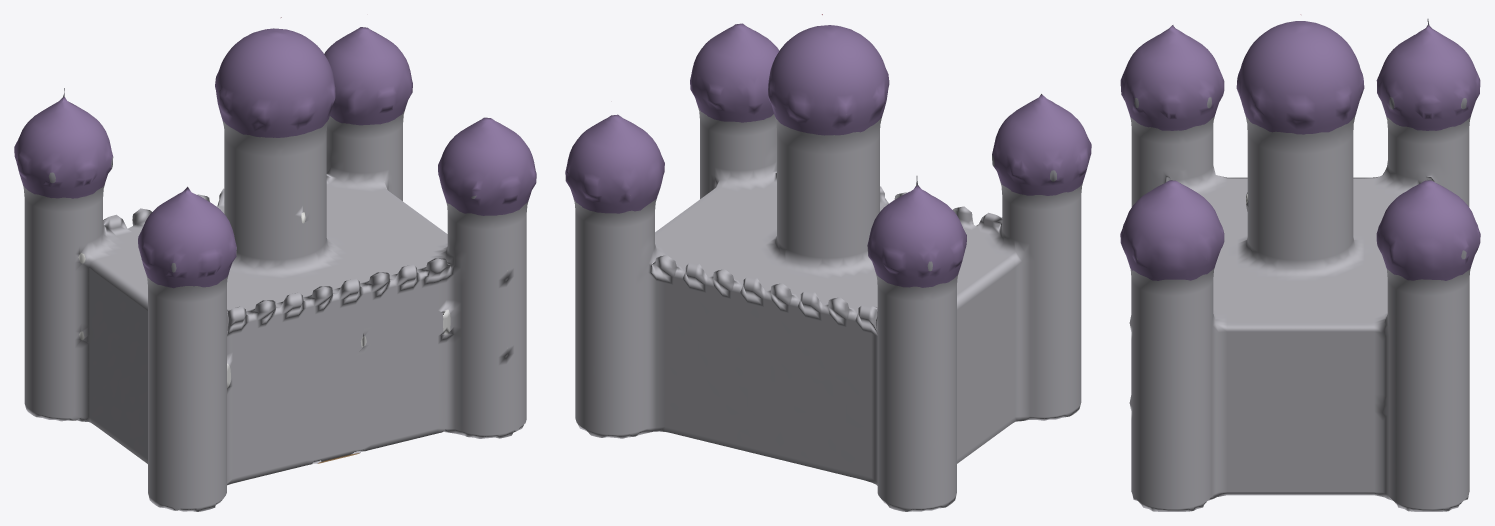
File: castle.glb
3 views of the same model, side by side, from view 1: azimuth 30°, elevation 25°; view 2: azimuth 150°, elevation 25°; view 3: azimuth 270°, elevation 25° (orthographic). The views are drawn at different scales.
Parts seen in each view (by area): view 1: castle; view 2: castle; view 3: castle.
Boxes of the visible parts, bbox=[...] form: castle: bbox=[14, 17, 536, 511]; castle: bbox=[565, 14, 1091, 511]; castle: bbox=[1120, 14, 1480, 511].
Bounding box in the file's own units: 542 × 533 × 422.
